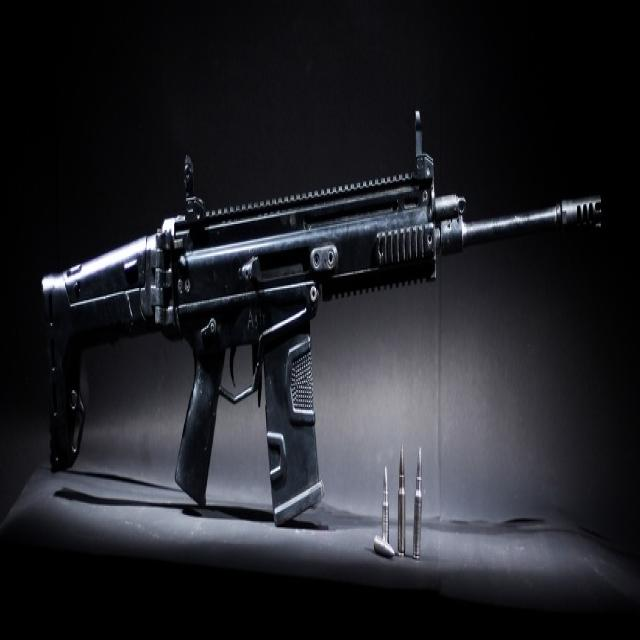Rifle: (43, 122, 602, 529)
